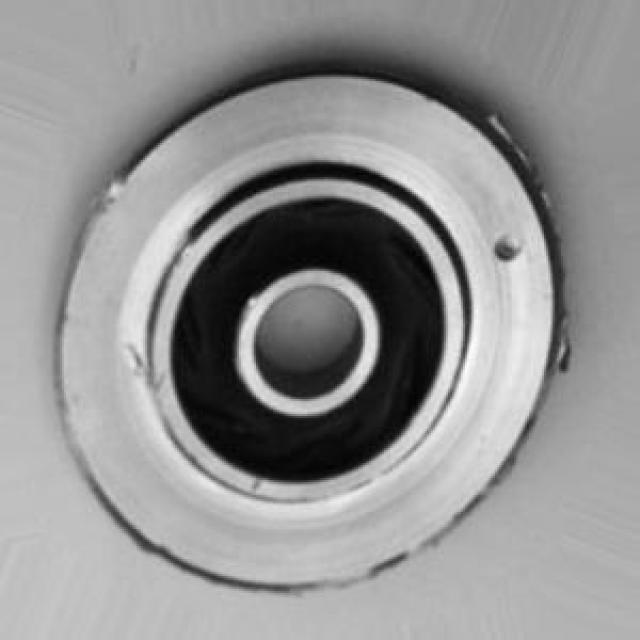Defect: (490, 232, 521, 266)
